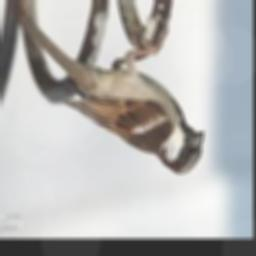Sparrow: (19, 11, 203, 173)
